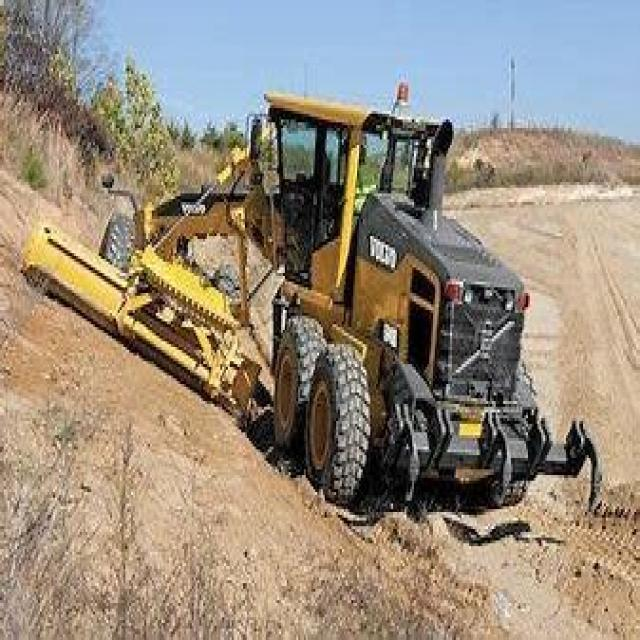Grader: (24, 68, 570, 518)
